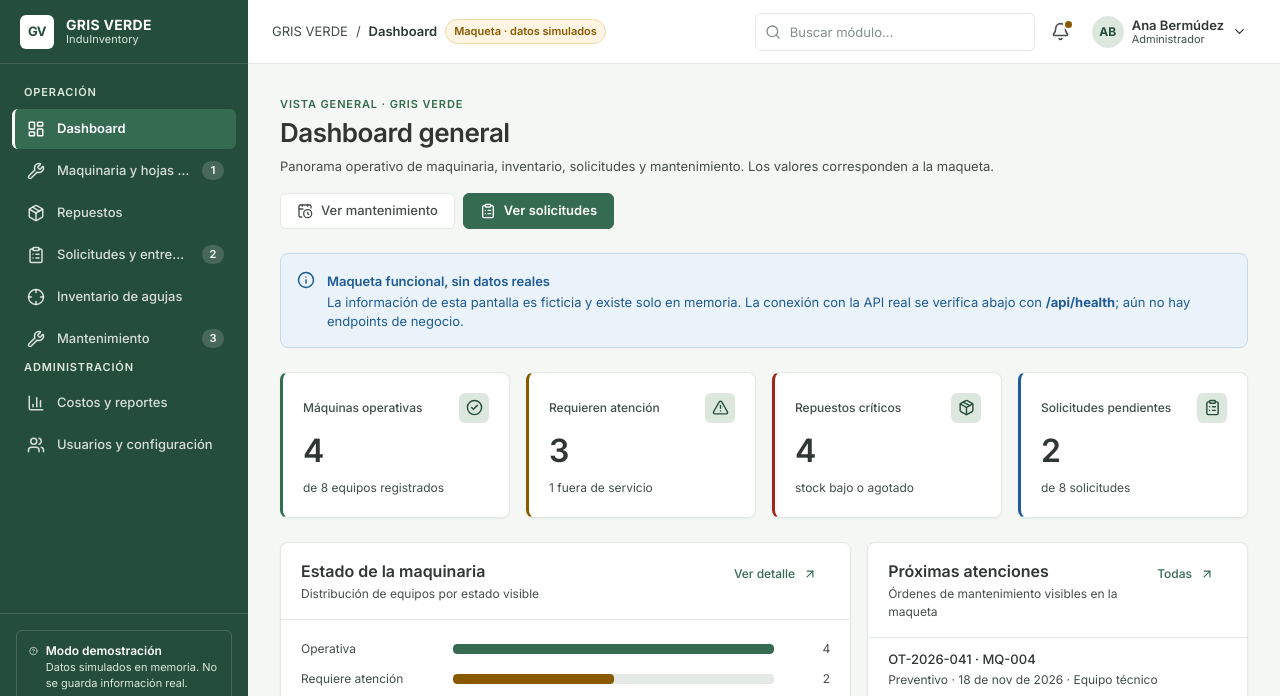
Scenario: InduInventory · shell y maqueta › navega a maquinaria y abre una hoja de vida simulada
The width and height of the screenshot is (1280, 696).
Click the link "Maquinaria y hojas de vida 1" at (126, 171), box [27,161,224,180]
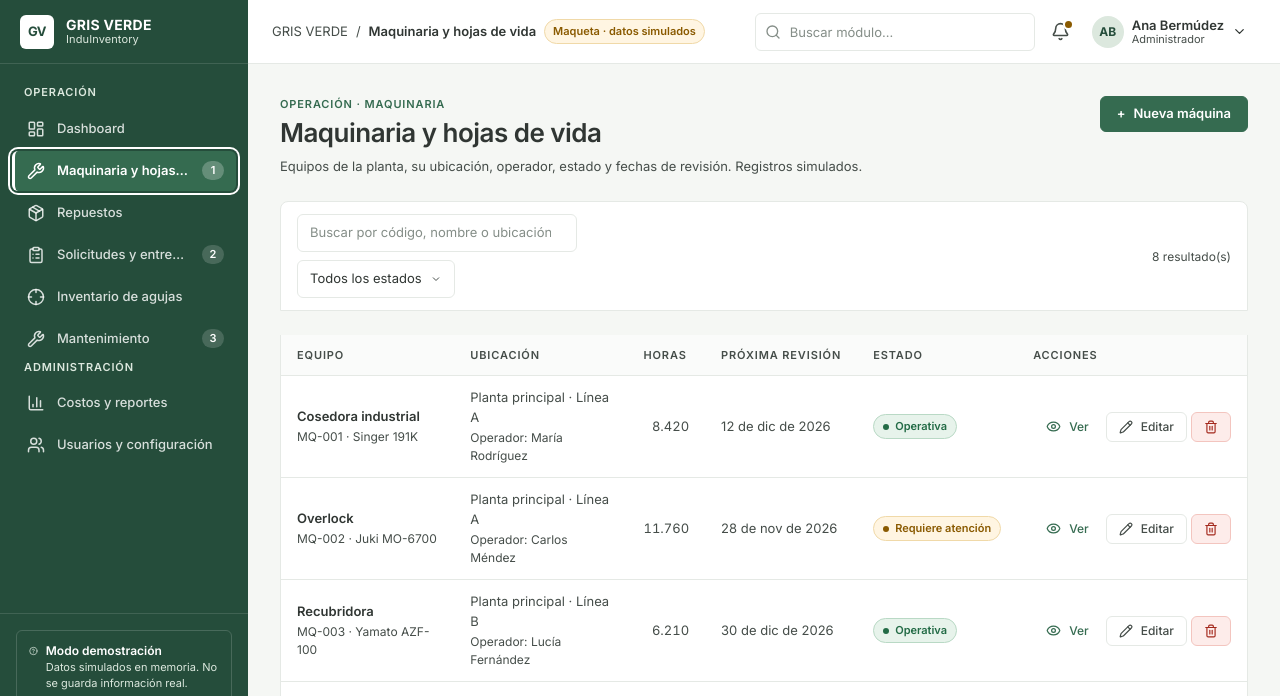
Check: the heading "Maquinaria y hojas de vida" is shown, box [280,116,602,148]
Check: the button with aria-label "Ver MQ-001" is shown
Click the button with aria-label "Ver MQ-001" at (1068, 426), box [1033,412,1102,442]
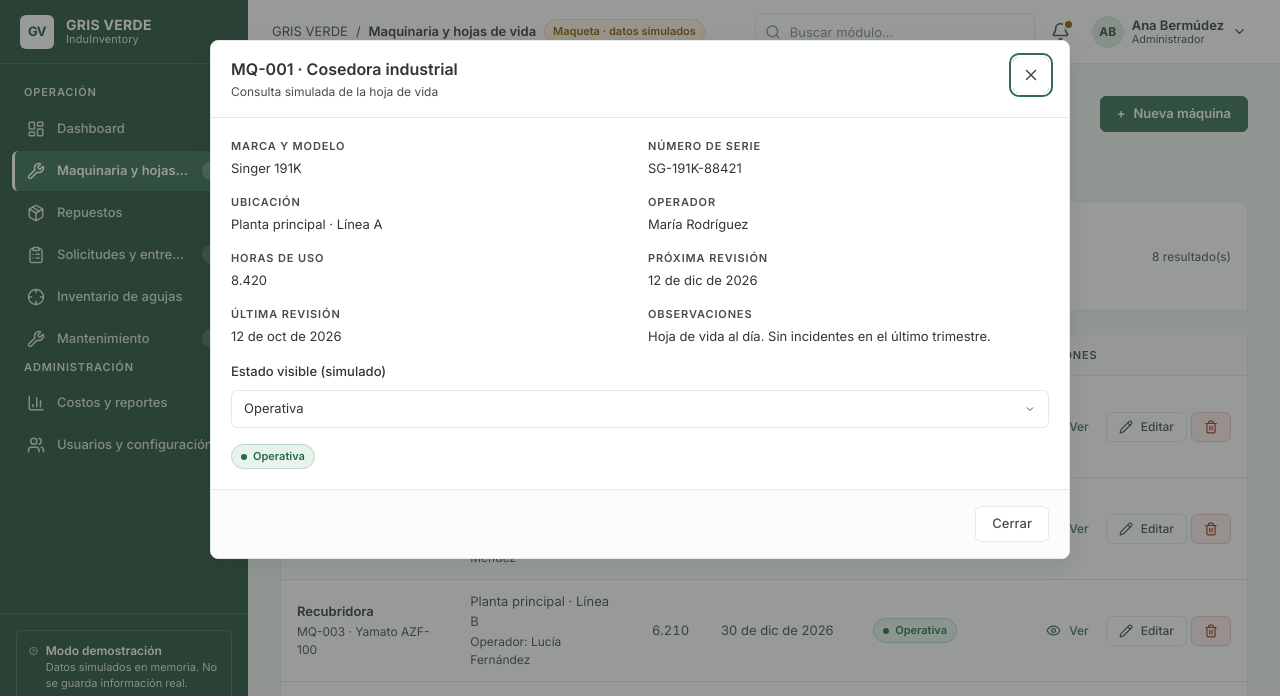
Check: the text "SG-191K-88421" is shown, box [648,160,742,176]
Click the button "Cerrar" at (1012, 524), box [975,506,1049,542]
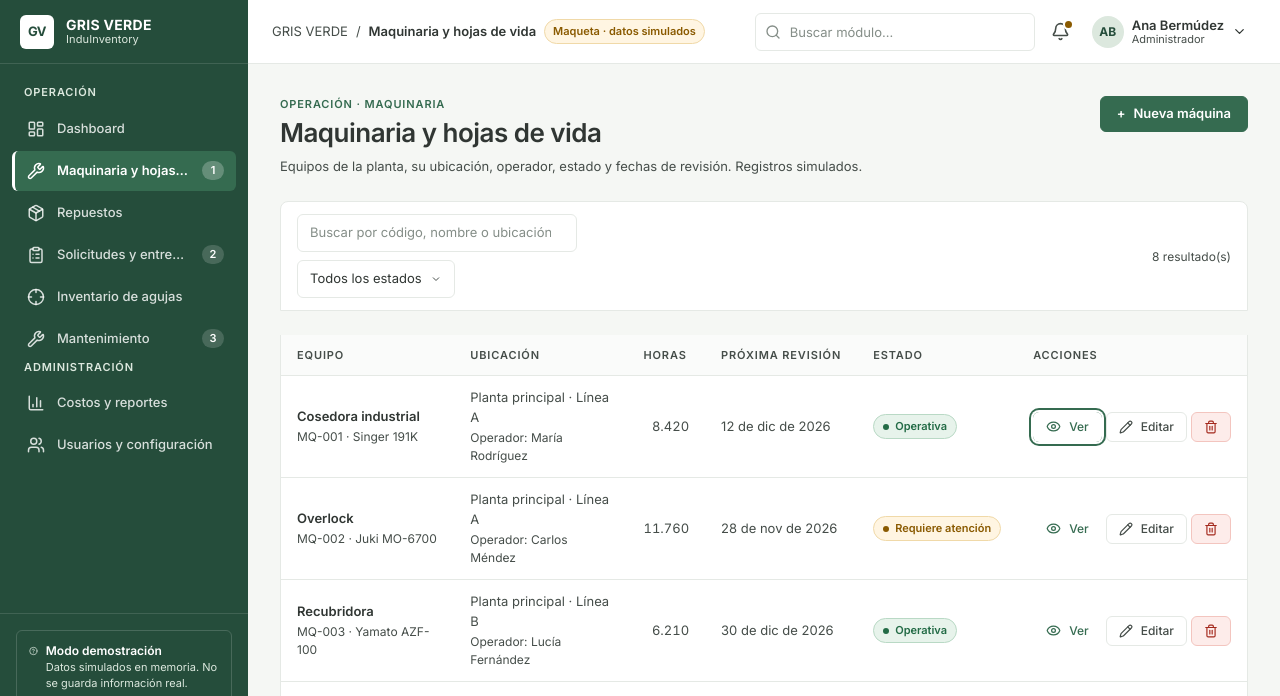
Check: the dialog is gone
